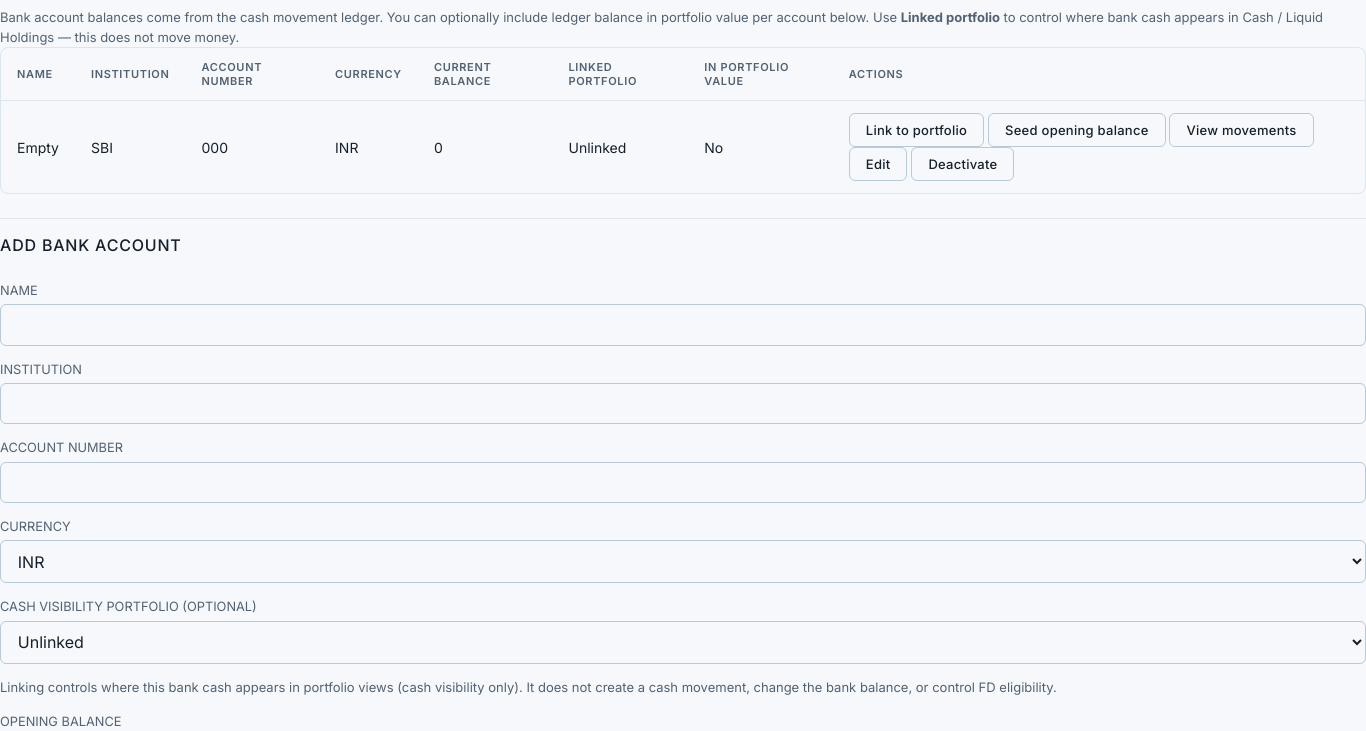
Test: BankAccountManagement › shows warning when include enabled without ledger entries
This screenshot has width=1366, height=731.
Click the button "Edit" at (878, 164), box [849, 147, 907, 181]
(page scrolled)
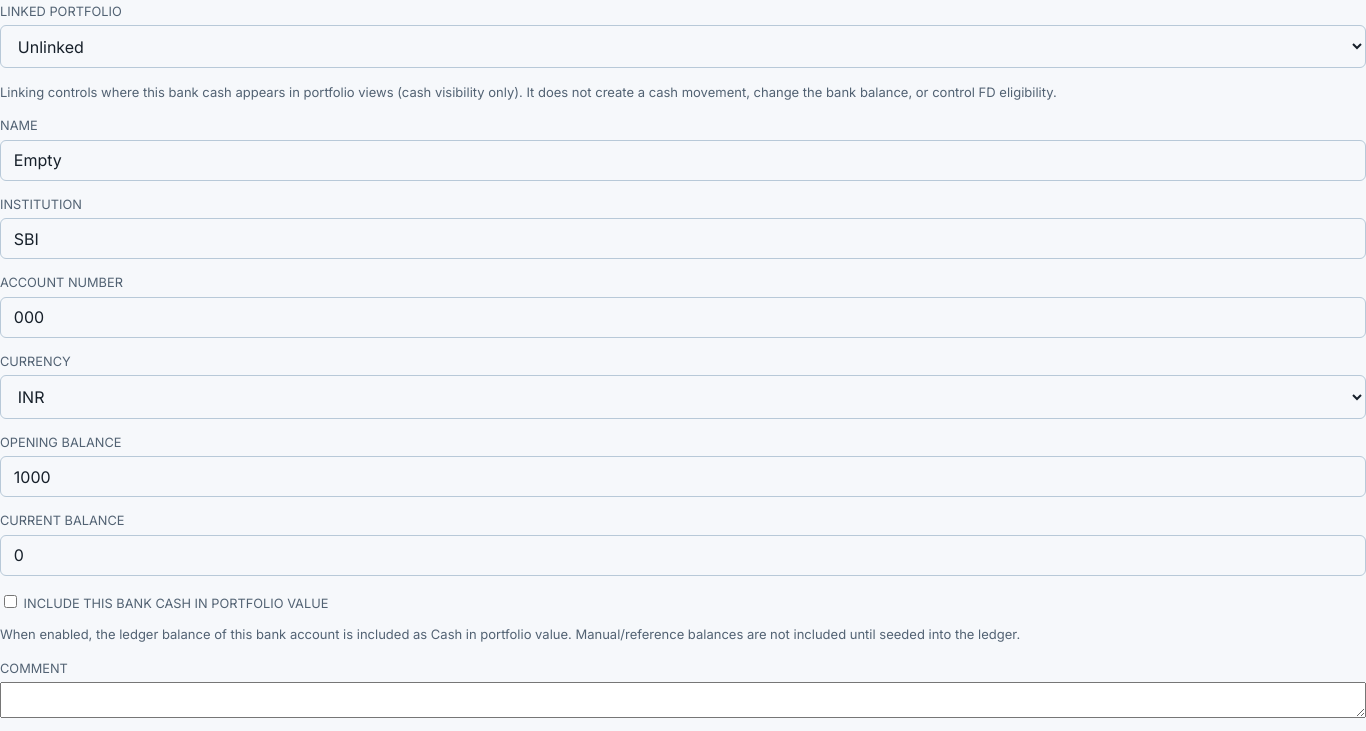
Click the checkbox labelled "Include this bank cash in portfolio value" at (10, 601), box [4, 595, 17, 608]
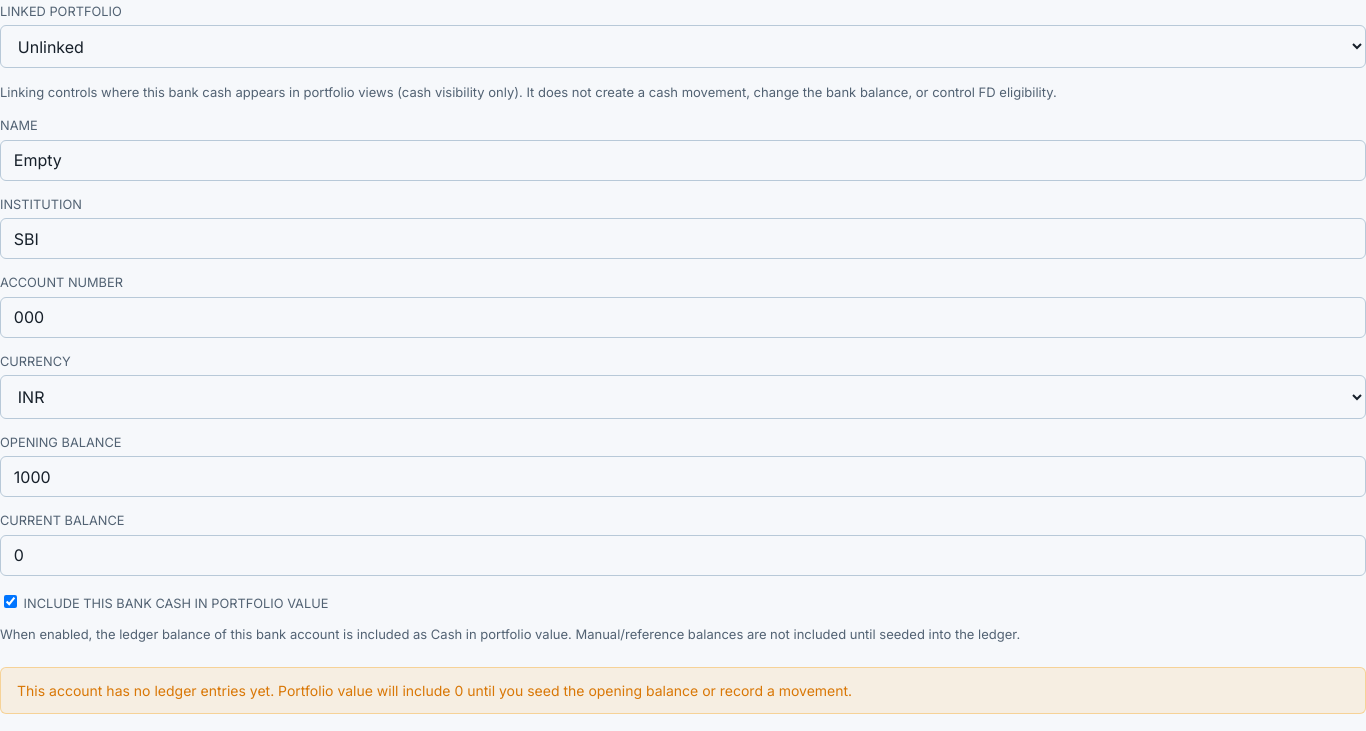
Expected: the text "portfolio value will include 0 until you seed" is shown, [17, 682, 852, 699]
